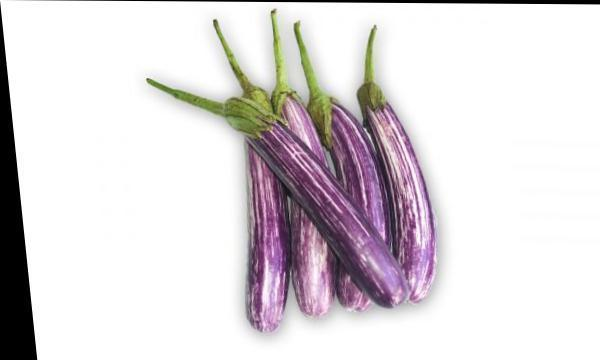eggplant: (186, 74, 460, 314)
